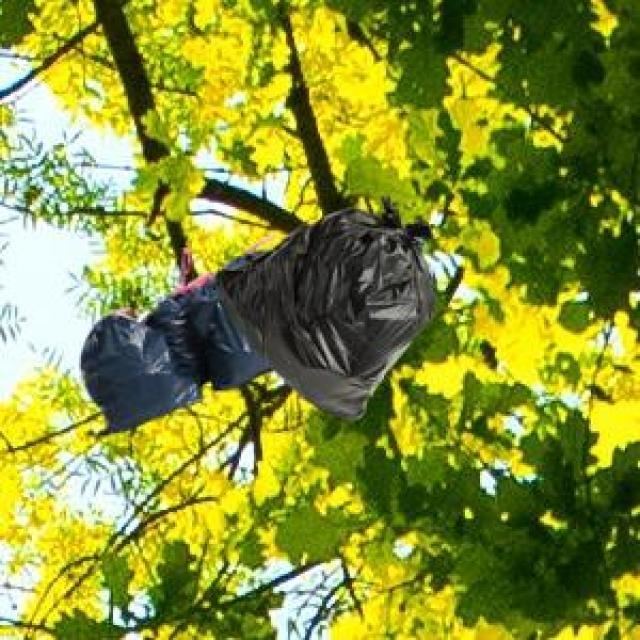miscellaneous trash: (211, 194, 431, 416), (77, 230, 269, 433)
